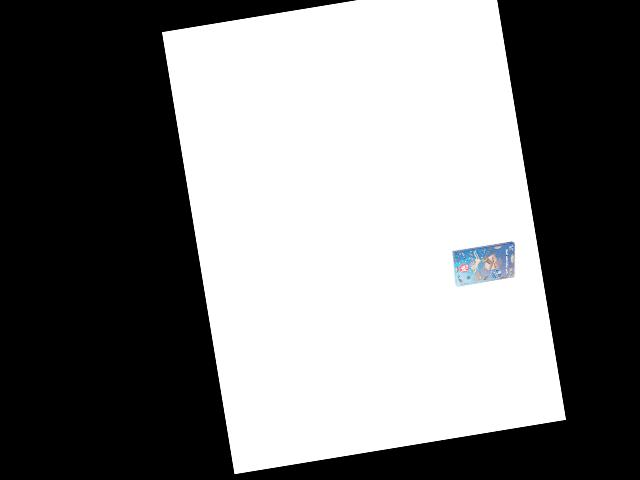chocolate: (448, 236, 521, 291)
